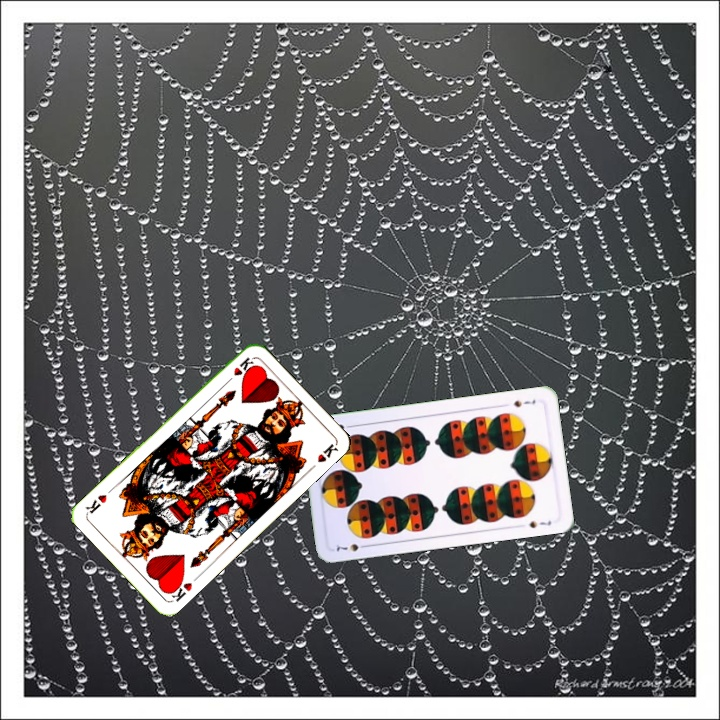HK: (221, 353, 256, 386), (164, 575, 195, 605)
S7: (332, 539, 371, 554), (510, 395, 538, 410)
